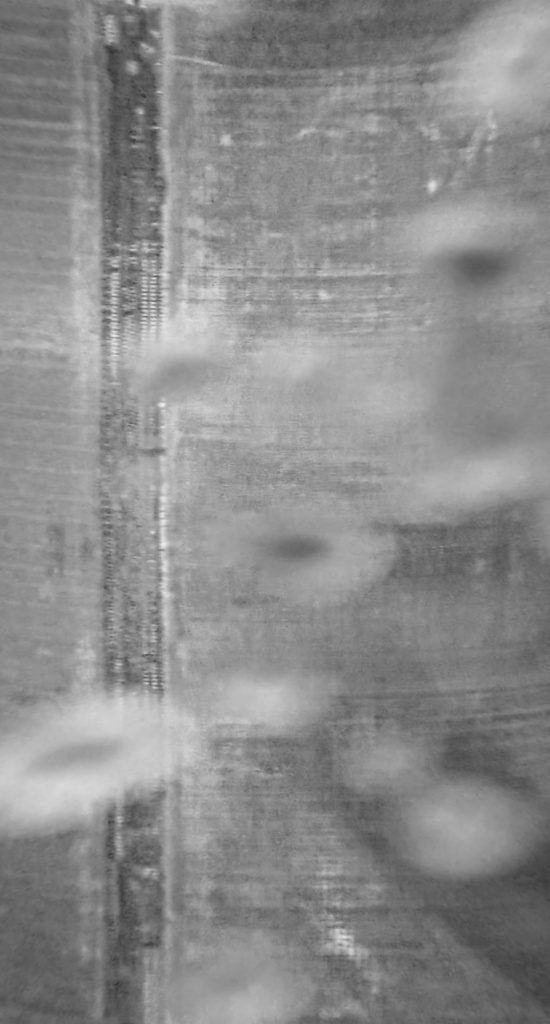splice: (78, 1, 181, 1024)
